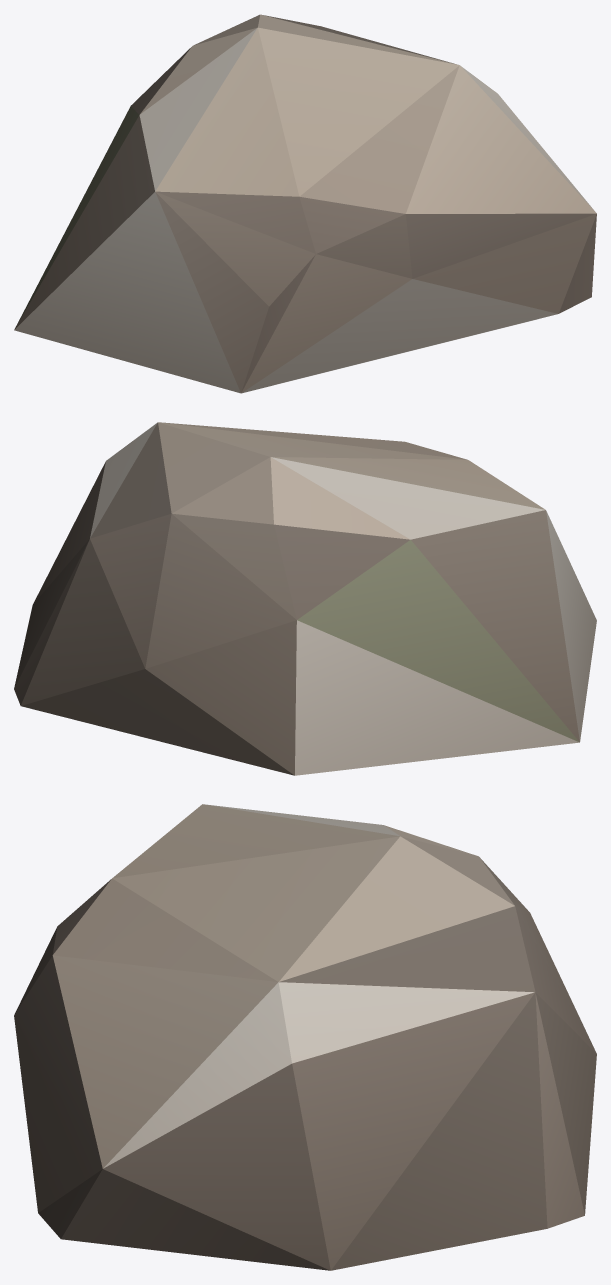
Rendered from ash_rock_a.glb.
The picture shows the model from 3 angles, top to bottom: view 1: azimuth 30°, elevation 25°; view 2: azimuth 150°, elevation 25°; view 3: azimuth 270°, elevation 25°; orthographic projection. The views are drawn at different scales.
Visible parts, largest first — view 1: ca_ash_rock_a; view 2: ca_ash_rock_a; view 3: ca_ash_rock_a.
Part boxes in pixels (x1=…): ca_ash_rock_a: x1=14, y1=14, x2=596, y2=393; ca_ash_rock_a: x1=14, y1=422, x2=596, y2=775; ca_ash_rock_a: x1=14, y1=804, x2=596, y2=1270.
Bounding box in the file's own units: 1.78 × 0.7231 × 1.37.
Materials: 1 (1 with a texture image).
